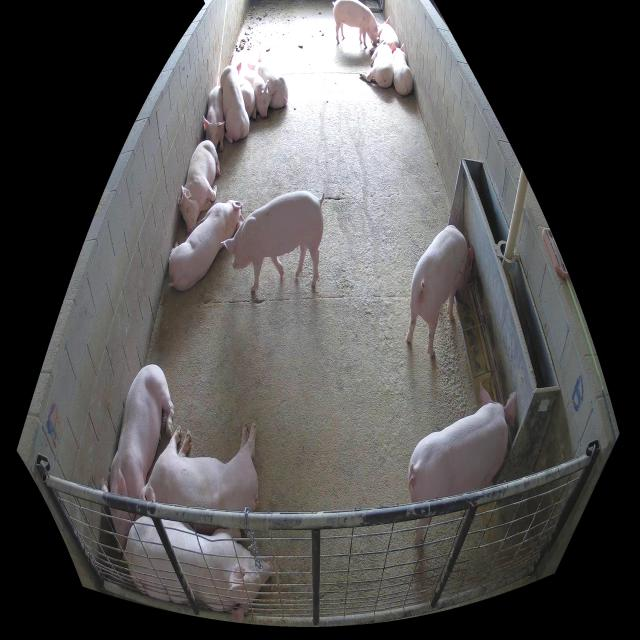pig: (407, 382, 516, 546), (124, 515, 274, 619), (101, 365, 174, 552), (139, 418, 258, 511), (220, 191, 323, 294), (406, 224, 473, 356), (168, 200, 244, 291), (178, 140, 221, 233), (220, 53, 250, 143), (333, 1, 382, 50), (248, 53, 289, 109), (357, 39, 394, 88), (241, 68, 270, 120), (203, 87, 224, 152), (391, 41, 414, 98), (240, 79, 256, 121), (379, 17, 399, 48)
